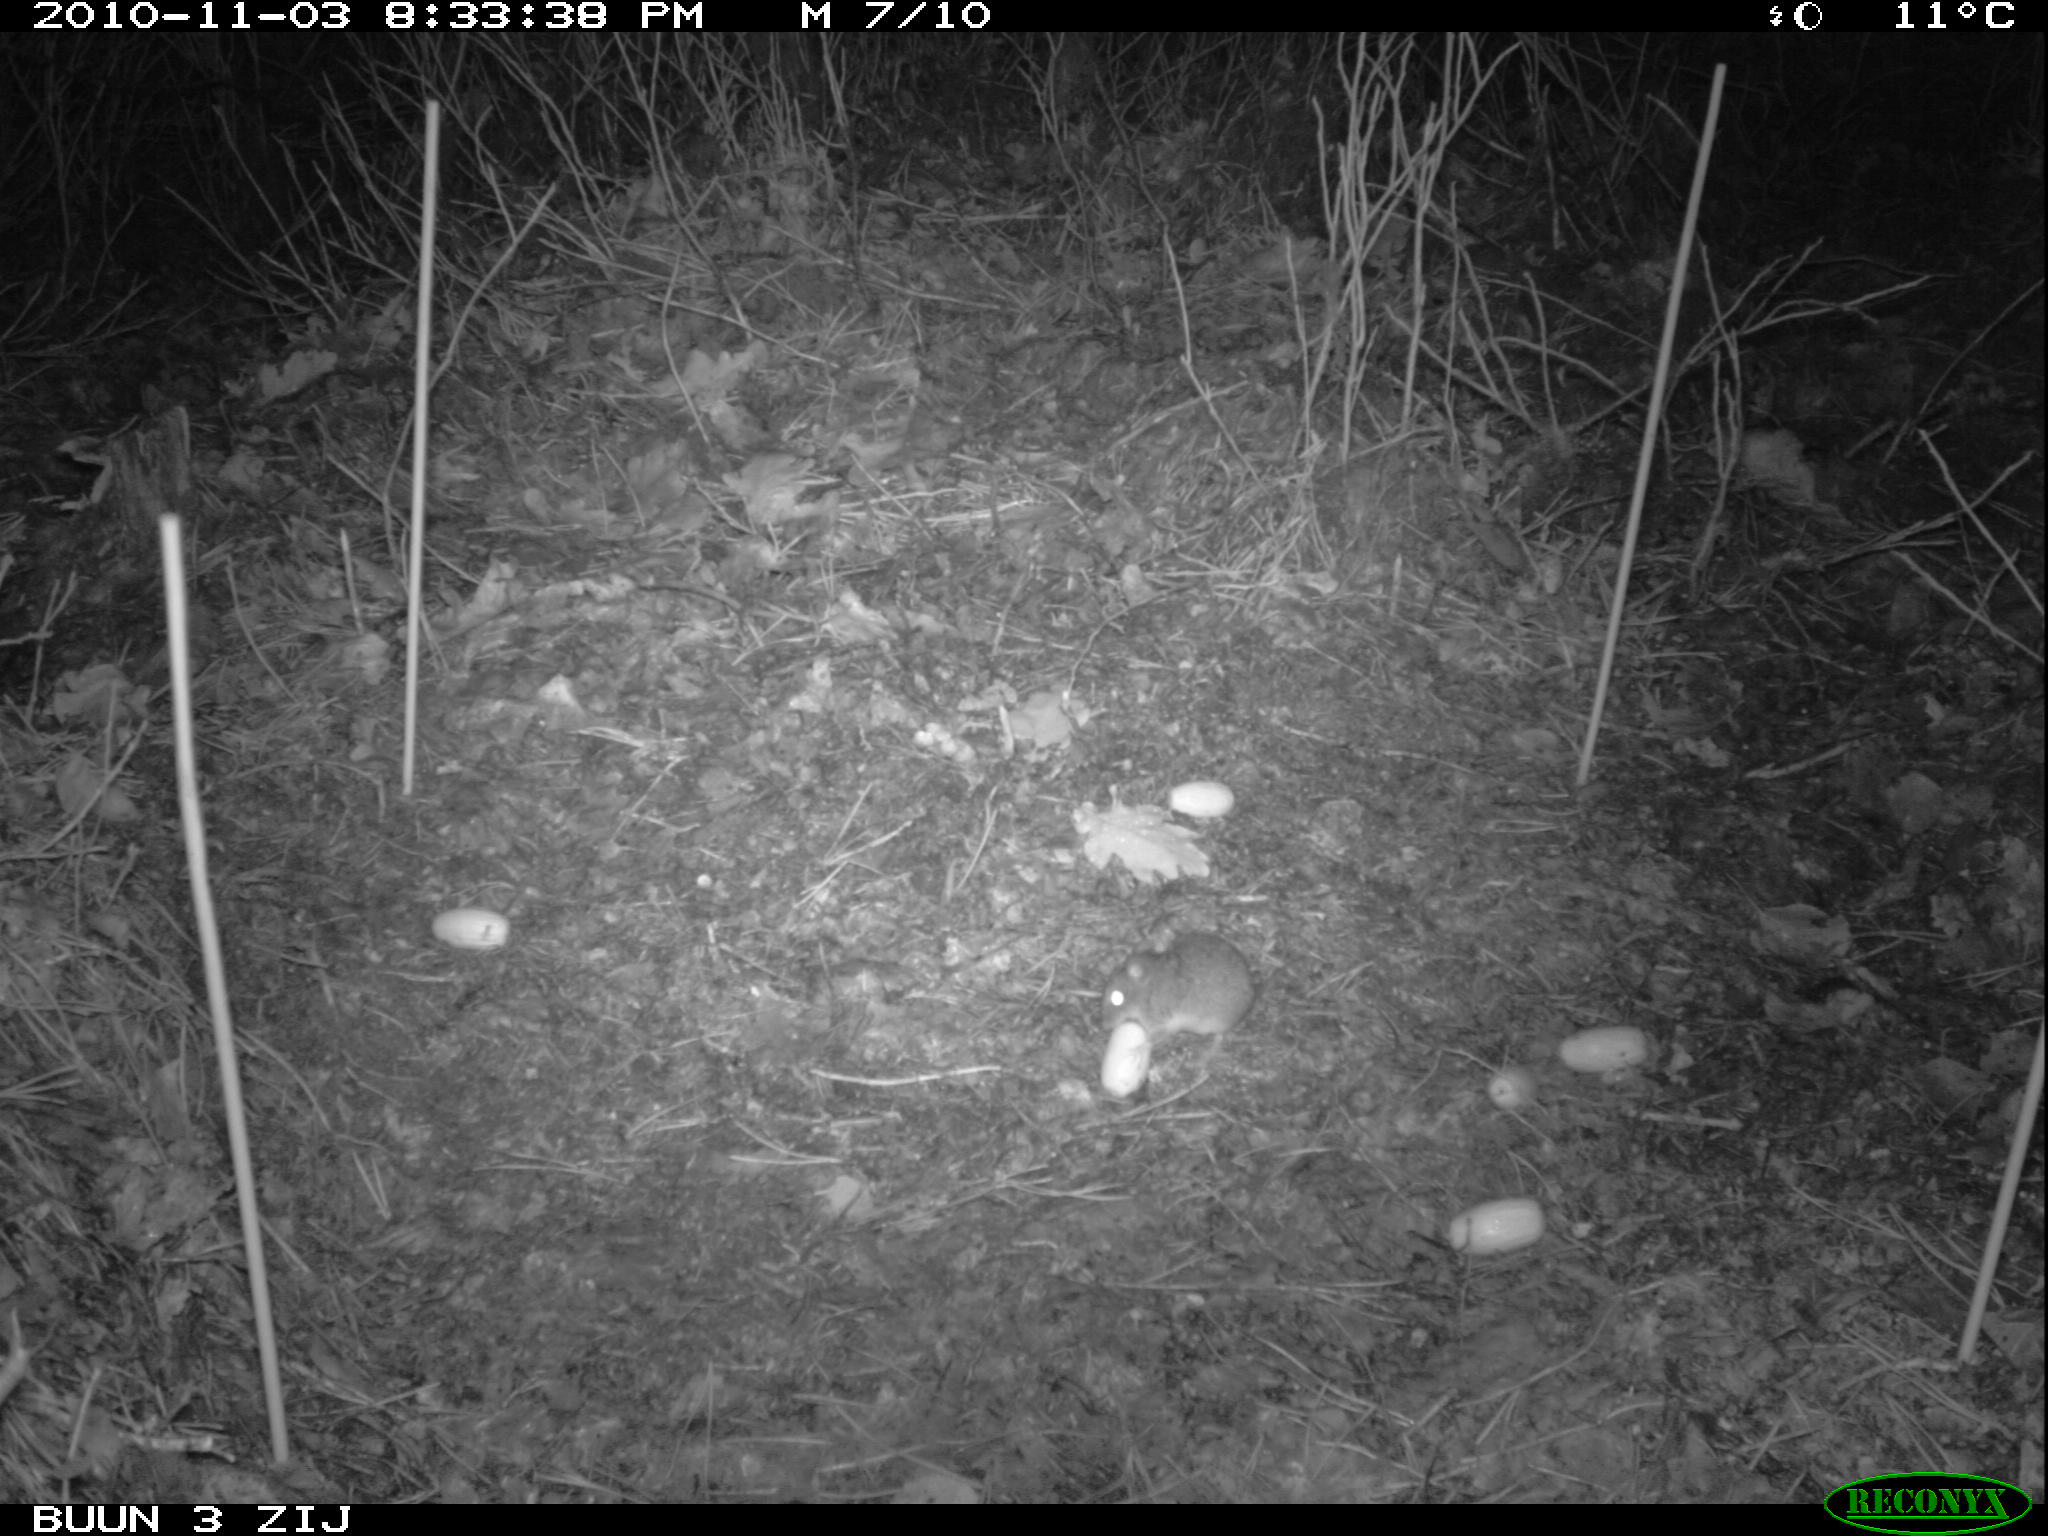Rodent: (1098, 918, 1256, 1060)
